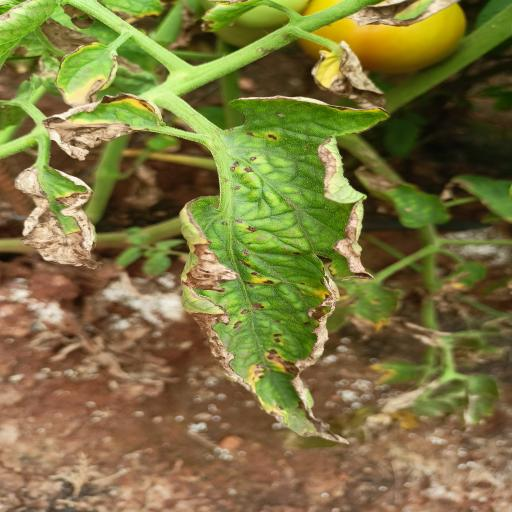Early Blight: (175, 94, 391, 450), (12, 165, 106, 275), (39, 92, 172, 164)
